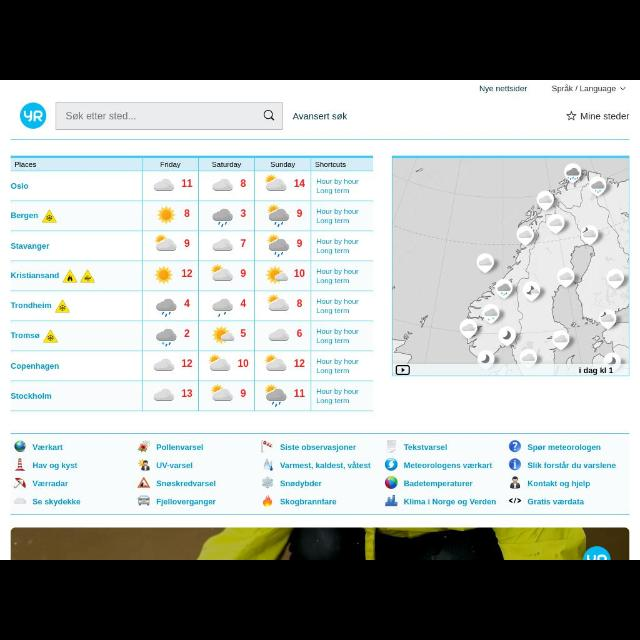icon: (263, 109, 275, 121), (138, 496, 150, 504), (567, 112, 577, 120), (619, 85, 625, 92)
image: (11, 527, 629, 559), (20, 102, 46, 128), (268, 205, 290, 228), (268, 234, 290, 256), (211, 264, 233, 284), (264, 386, 286, 406), (156, 328, 177, 348), (213, 208, 233, 228), (155, 234, 177, 252), (266, 266, 288, 284), (156, 298, 178, 316), (212, 298, 234, 316), (268, 295, 290, 313), (212, 326, 234, 344), (208, 355, 230, 371), (157, 206, 175, 224), (266, 175, 286, 191), (266, 355, 286, 371), (153, 178, 175, 192), (268, 328, 290, 342), (154, 267, 173, 283), (212, 386, 232, 400), (212, 178, 234, 190), (153, 359, 174, 371), (44, 328, 58, 344), (214, 240, 232, 252), (81, 270, 95, 284), (42, 210, 58, 222), (64, 268, 76, 284), (156, 388, 172, 400), (56, 301, 70, 313), (384, 458, 398, 470), (386, 494, 398, 508), (508, 458, 522, 470), (386, 476, 398, 489), (138, 459, 150, 471), (260, 440, 272, 452), (508, 496, 522, 506), (509, 441, 521, 452), (14, 441, 26, 451), (14, 496, 26, 506), (138, 441, 150, 451), (139, 476, 149, 488), (264, 458, 274, 470), (263, 497, 273, 509), (386, 440, 396, 452), (510, 476, 520, 488), (15, 478, 25, 489), (262, 478, 274, 487), (16, 458, 24, 470)
input: (56, 103, 282, 129)
map: (394, 157, 630, 375)
spinner: (551, 85, 627, 95)
text: (403, 498, 495, 507), (66, 111, 138, 122), (315, 297, 359, 315), (404, 462, 492, 471), (316, 267, 359, 285), (316, 207, 358, 225), (316, 238, 358, 256), (316, 328, 358, 346), (527, 443, 601, 453), (280, 462, 372, 470), (316, 388, 360, 404), (403, 480, 472, 490), (316, 178, 359, 194), (528, 462, 614, 470), (316, 358, 358, 374), (550, 85, 616, 95), (528, 478, 590, 488), (156, 480, 217, 490), (280, 444, 356, 452), (10, 361, 60, 373), (293, 112, 349, 122), (156, 499, 218, 507), (280, 499, 338, 507), (526, 499, 584, 507), (582, 111, 628, 121), (32, 462, 78, 472), (10, 302, 52, 312), (10, 242, 50, 252), (10, 272, 60, 280), (280, 479, 320, 489), (480, 85, 528, 93), (34, 498, 80, 506), (156, 444, 204, 451), (32, 479, 68, 488), (154, 461, 193, 469), (404, 444, 448, 451), (316, 160, 346, 170), (32, 444, 64, 452), (10, 393, 52, 399), (212, 160, 242, 168), (10, 332, 40, 340), (15, 160, 38, 170), (270, 161, 296, 169), (11, 212, 37, 220), (11, 182, 29, 192), (160, 160, 180, 168), (294, 178, 306, 188), (181, 268, 193, 278), (293, 268, 305, 278), (293, 358, 305, 368), (182, 178, 192, 188), (182, 358, 192, 368), (182, 388, 192, 398), (238, 359, 248, 369), (294, 388, 304, 398), (296, 237, 304, 249), (182, 238, 190, 248), (239, 328, 247, 338), (238, 388, 246, 398), (296, 326, 302, 338), (240, 238, 247, 248), (240, 268, 247, 278), (183, 298, 190, 308), (183, 328, 190, 338), (240, 298, 247, 308), (240, 210, 248, 218), (183, 208, 189, 218), (296, 298, 302, 308), (240, 180, 247, 188), (296, 210, 302, 218)
toolbar: (1, 80, 639, 138)
